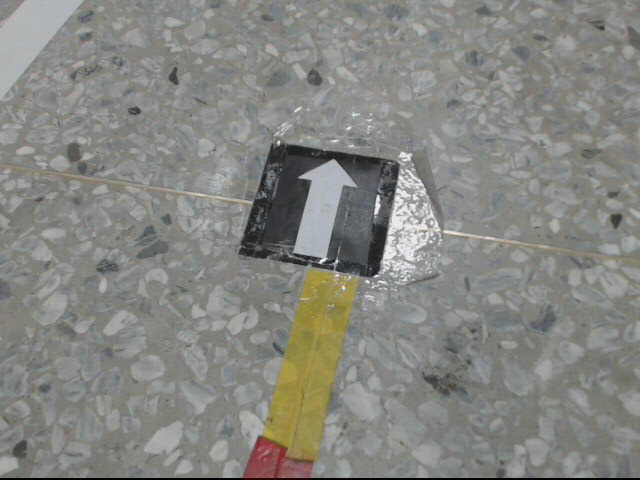straight: (243, 143, 399, 279)
